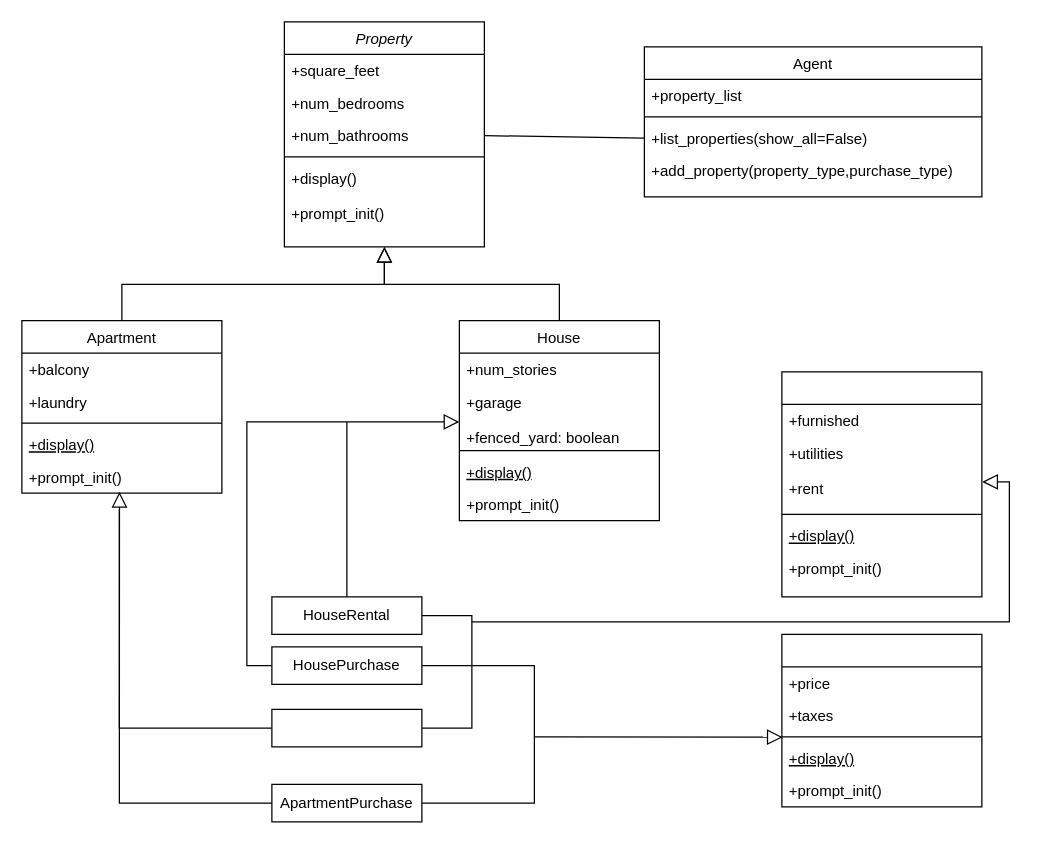
This 1046x844 diagram has some shape labels left out. Each missing label, with the box of its shape:
ApartmentRental: (271, 708, 422, 747)
Purchase: (781, 633, 982, 807)
Rental: (781, 371, 982, 597)
